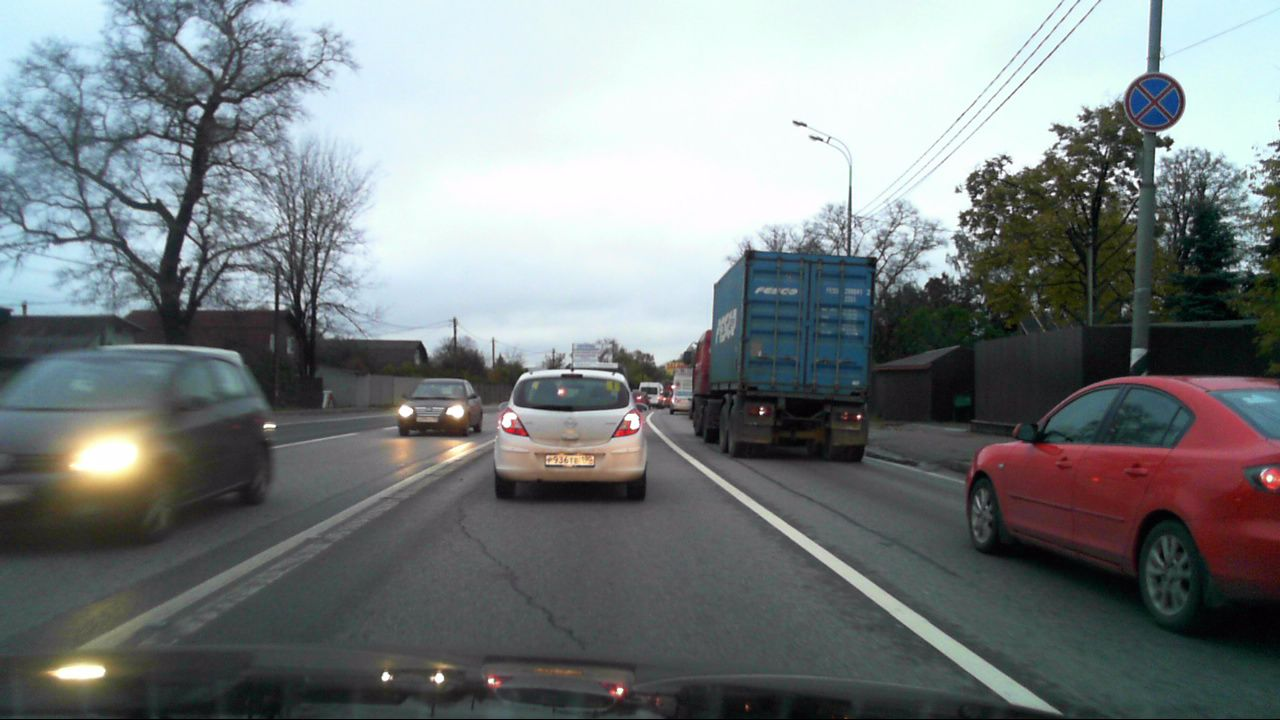No Parking: (1123, 73, 1184, 132)
